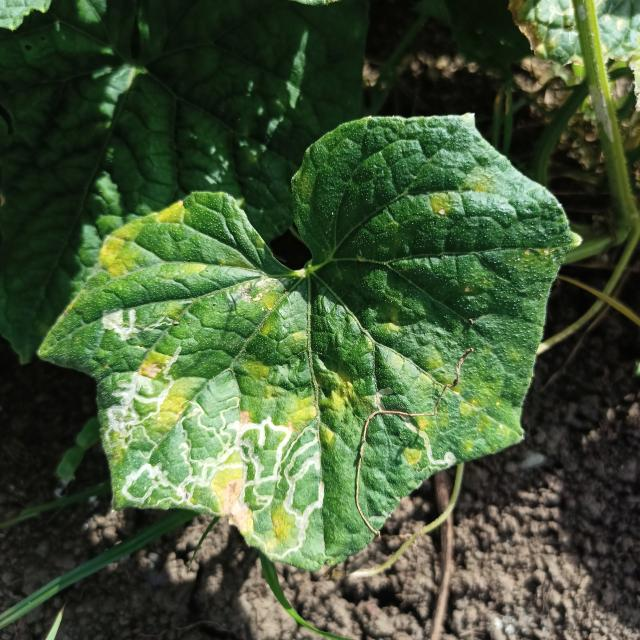disease_cucumber: (85, 283, 357, 540), (356, 322, 485, 469), (95, 194, 207, 284), (427, 170, 498, 220)
